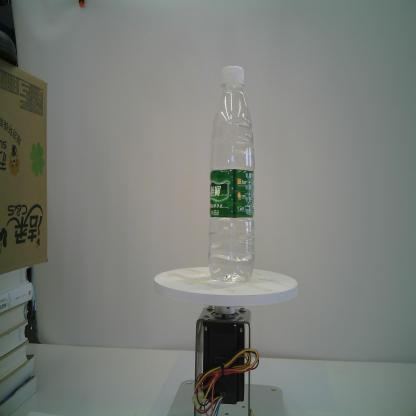Drink: (205, 63, 256, 281)
